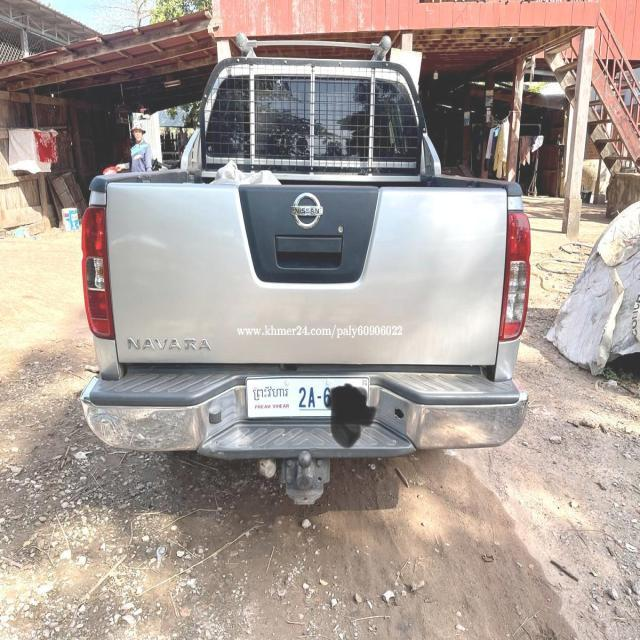Preah_Vihear: (252, 383, 290, 402)
